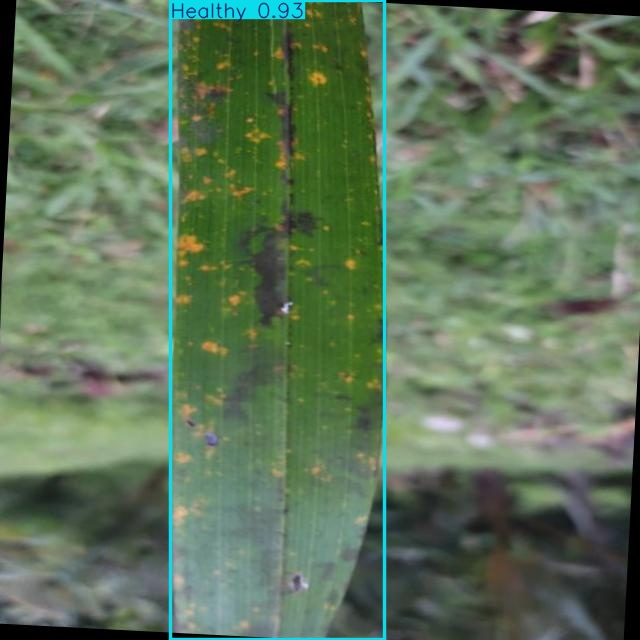Healthy: (170, 1, 385, 639)
